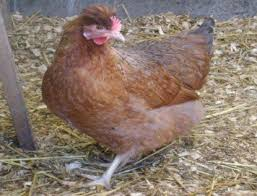chicken: (32, 3, 230, 196)
